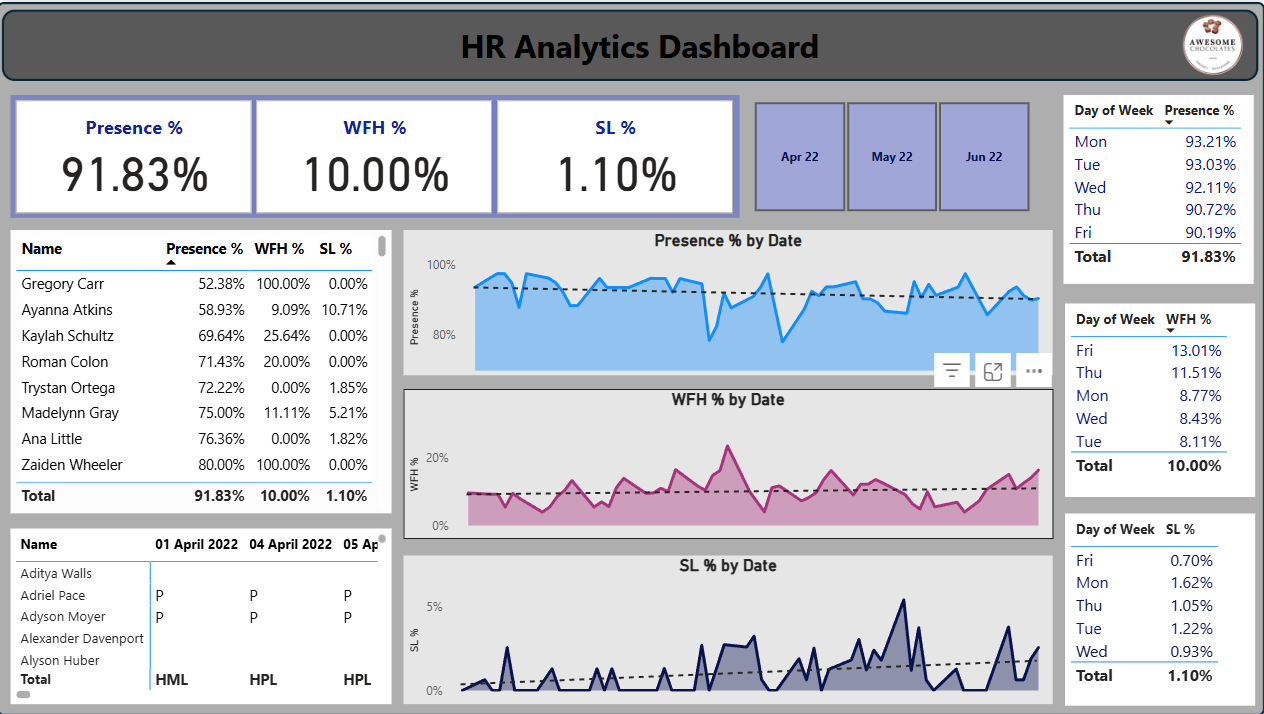

The page's visual inventory and layout, read from the dashboard file:
{"tool":"powerbi","page":{"name":"Report","canvas":[1280,720],"ordinal":0},"visuals":[{"type":"slicer","fields":{"Values":["Final Data.Month"]},"box":[738.9,93.9,327.1,124.2],"z":0},{"type":"tableEx","fields":{"Values":["Final Data.Name","Final Data.Presence %","Final Data.WFH %","Final Data.SL %"]},"box":[13.6,230.2,384.6,286.2],"z":1000},{"type":"pivotTable","fields":{"Rows":["Final Data.Name"],"Values":["Min(Final Data.Value)"],"Columns":["Final Data.Date"]},"box":[13.6,531.5,384.6,177.2],"z":2000},{"type":"areaChart","fields":{"Y":["Final Data.Presence %"],"Category":["Final Data.Date"]},"box":[410.3,230.2,655.7,146.9],"z":3000},{"type":"areaChart","fields":{"Category":["Final Data.Date"],"Y":["Final Data.WFH %"]},"box":[410.3,390.7,655.7,151.4],"z":4000},{"type":"areaChart","fields":{"Category":["Final Data.Date"],"Y":["Final Data.SL %"]},"box":[410.3,558.7,655.7,149.9],"z":5000},{"type":"tableEx","fields":{"Values":["Final Data.Day of Week","Final Data.Presence %"]},"box":[1076.6,93.9,192.3,190.8],"z":6000},{"type":"tableEx","fields":{"Values":["Final Data.Day of Week","Final Data.WFH %"]},"box":[1078.1,304.4,192.3,195.3],"z":7000},{"type":"cardVisual","fields":{"Data":["Final Data.Presence %","Final Data.WFH %","Final Data.SL %"]},"box":[13.6,93.9,735.9,124.2],"z":8000},{"type":"tableEx","fields":{"Values":["Final Data.Day of Week","Final Data.SL %"]},"box":[1078.1,516.3,192.3,193.8],"z":9000},{"type":"textbox","box":[427,16.7,443.7,54.5],"z":10000},{"type":"image","box":[1175,7.6,104.5,71.2],"z":11000}]}

Visuals, with their boxes in screenshot pixels (x1, y1, x2, y2), scaled from the page's 1280x720 canvas onto the 1264x714 screenshot:
slicer - Final Data.Month: Rect(730, 93, 1053, 216)
tableEx - Final Data.Name x Final Data.Presence %: Rect(13, 228, 393, 512)
pivotTable - Final Data.Name x Min(Final Data.Value): Rect(13, 527, 393, 703)
areaChart - Final Data.Presence % x Final Data.Date: Rect(405, 228, 1053, 374)
areaChart - Final Data.Date x Final Data.WFH %: Rect(405, 387, 1053, 538)
areaChart - Final Data.Date x Final Data.SL %: Rect(405, 554, 1053, 703)
tableEx - Final Data.Day of Week x Final Data.Presence %: Rect(1063, 93, 1253, 282)
tableEx - Final Data.Day of Week x Final Data.WFH %: Rect(1065, 302, 1255, 496)
cardVisual - Final Data.Presence % x Final Data.WFH %: Rect(13, 93, 740, 216)
tableEx - Final Data.Day of Week x Final Data.SL %: Rect(1065, 512, 1255, 704)
textbox: Rect(422, 17, 860, 71)
image: Rect(1160, 8, 1263, 78)
